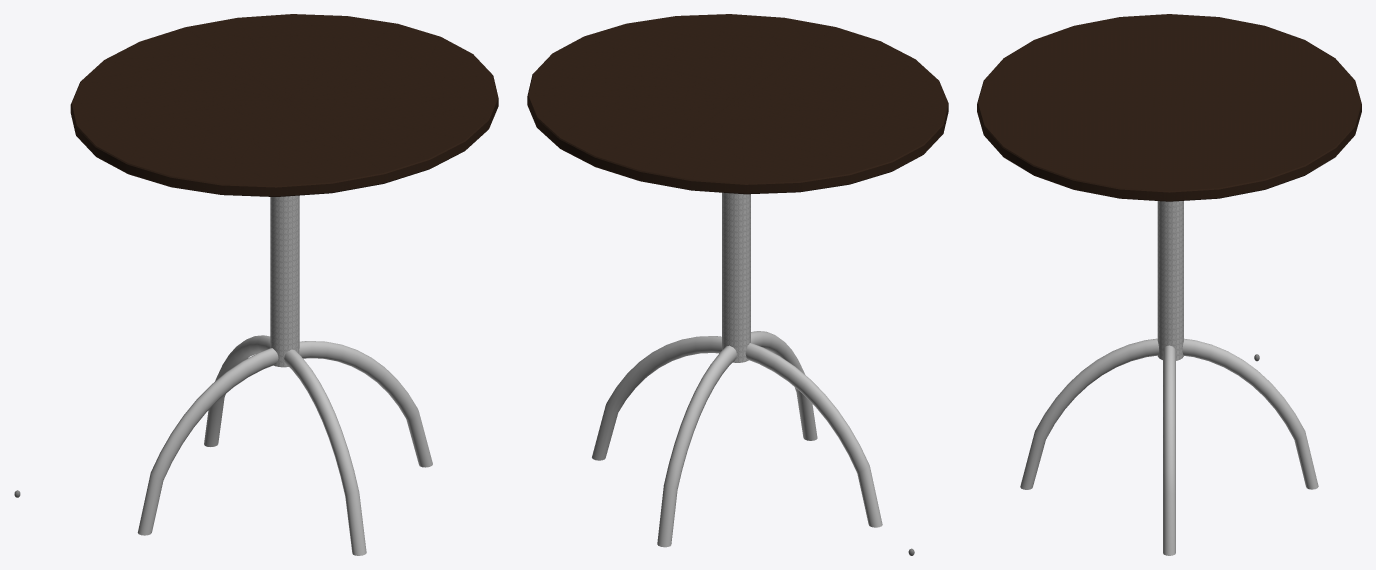
Rendered from mesa_restaurant.obj.
3 renders of one model, left to right at view 1: azimuth 30°, elevation 25°; view 2: azimuth 150°, elevation 25°; view 3: azimuth 270°, elevation 25°, orthographic. The views are drawn at different scales.
Visible parts, largest first — view 1: polySurface54 polySurface230, polySurface231 polySurface54, polySurface54 polySurface212, polySurface54 polySurface232; view 2: polySurface54 polySurface230, polySurface231 polySurface54, polySurface54 polySurface212, polySurface54 polySurface232; view 3: polySurface54 polySurface230, polySurface54 polySurface212, polySurface54 polySurface232, polySurface231 polySurface54.
Part boxes in pixels (bbox=[...]): polySurface54 polySurface230: bbox=[70, 14, 498, 196]; polySurface231 polySurface54: bbox=[137, 341, 432, 535]; polySurface54 polySurface212: bbox=[204, 335, 366, 555]; polySurface54 polySurface232: bbox=[270, 195, 299, 367]; polySurface54 polySurface230: bbox=[527, 14, 948, 194]; polySurface231 polySurface54: bbox=[592, 336, 882, 527]; polySurface54 polySurface212: bbox=[657, 331, 817, 547]; polySurface54 polySurface232: bbox=[722, 192, 750, 362]; polySurface54 polySurface230: bbox=[977, 14, 1361, 201]; polySurface54 polySurface212: bbox=[1020, 338, 1318, 489]; polySurface54 polySurface232: bbox=[1157, 201, 1183, 360]; polySurface231 polySurface54: bbox=[1163, 345, 1175, 555].
Size of the model in its own units: 7.53 by 6.94 by 6.3.
Materials: 3 (2 with a texture image).
